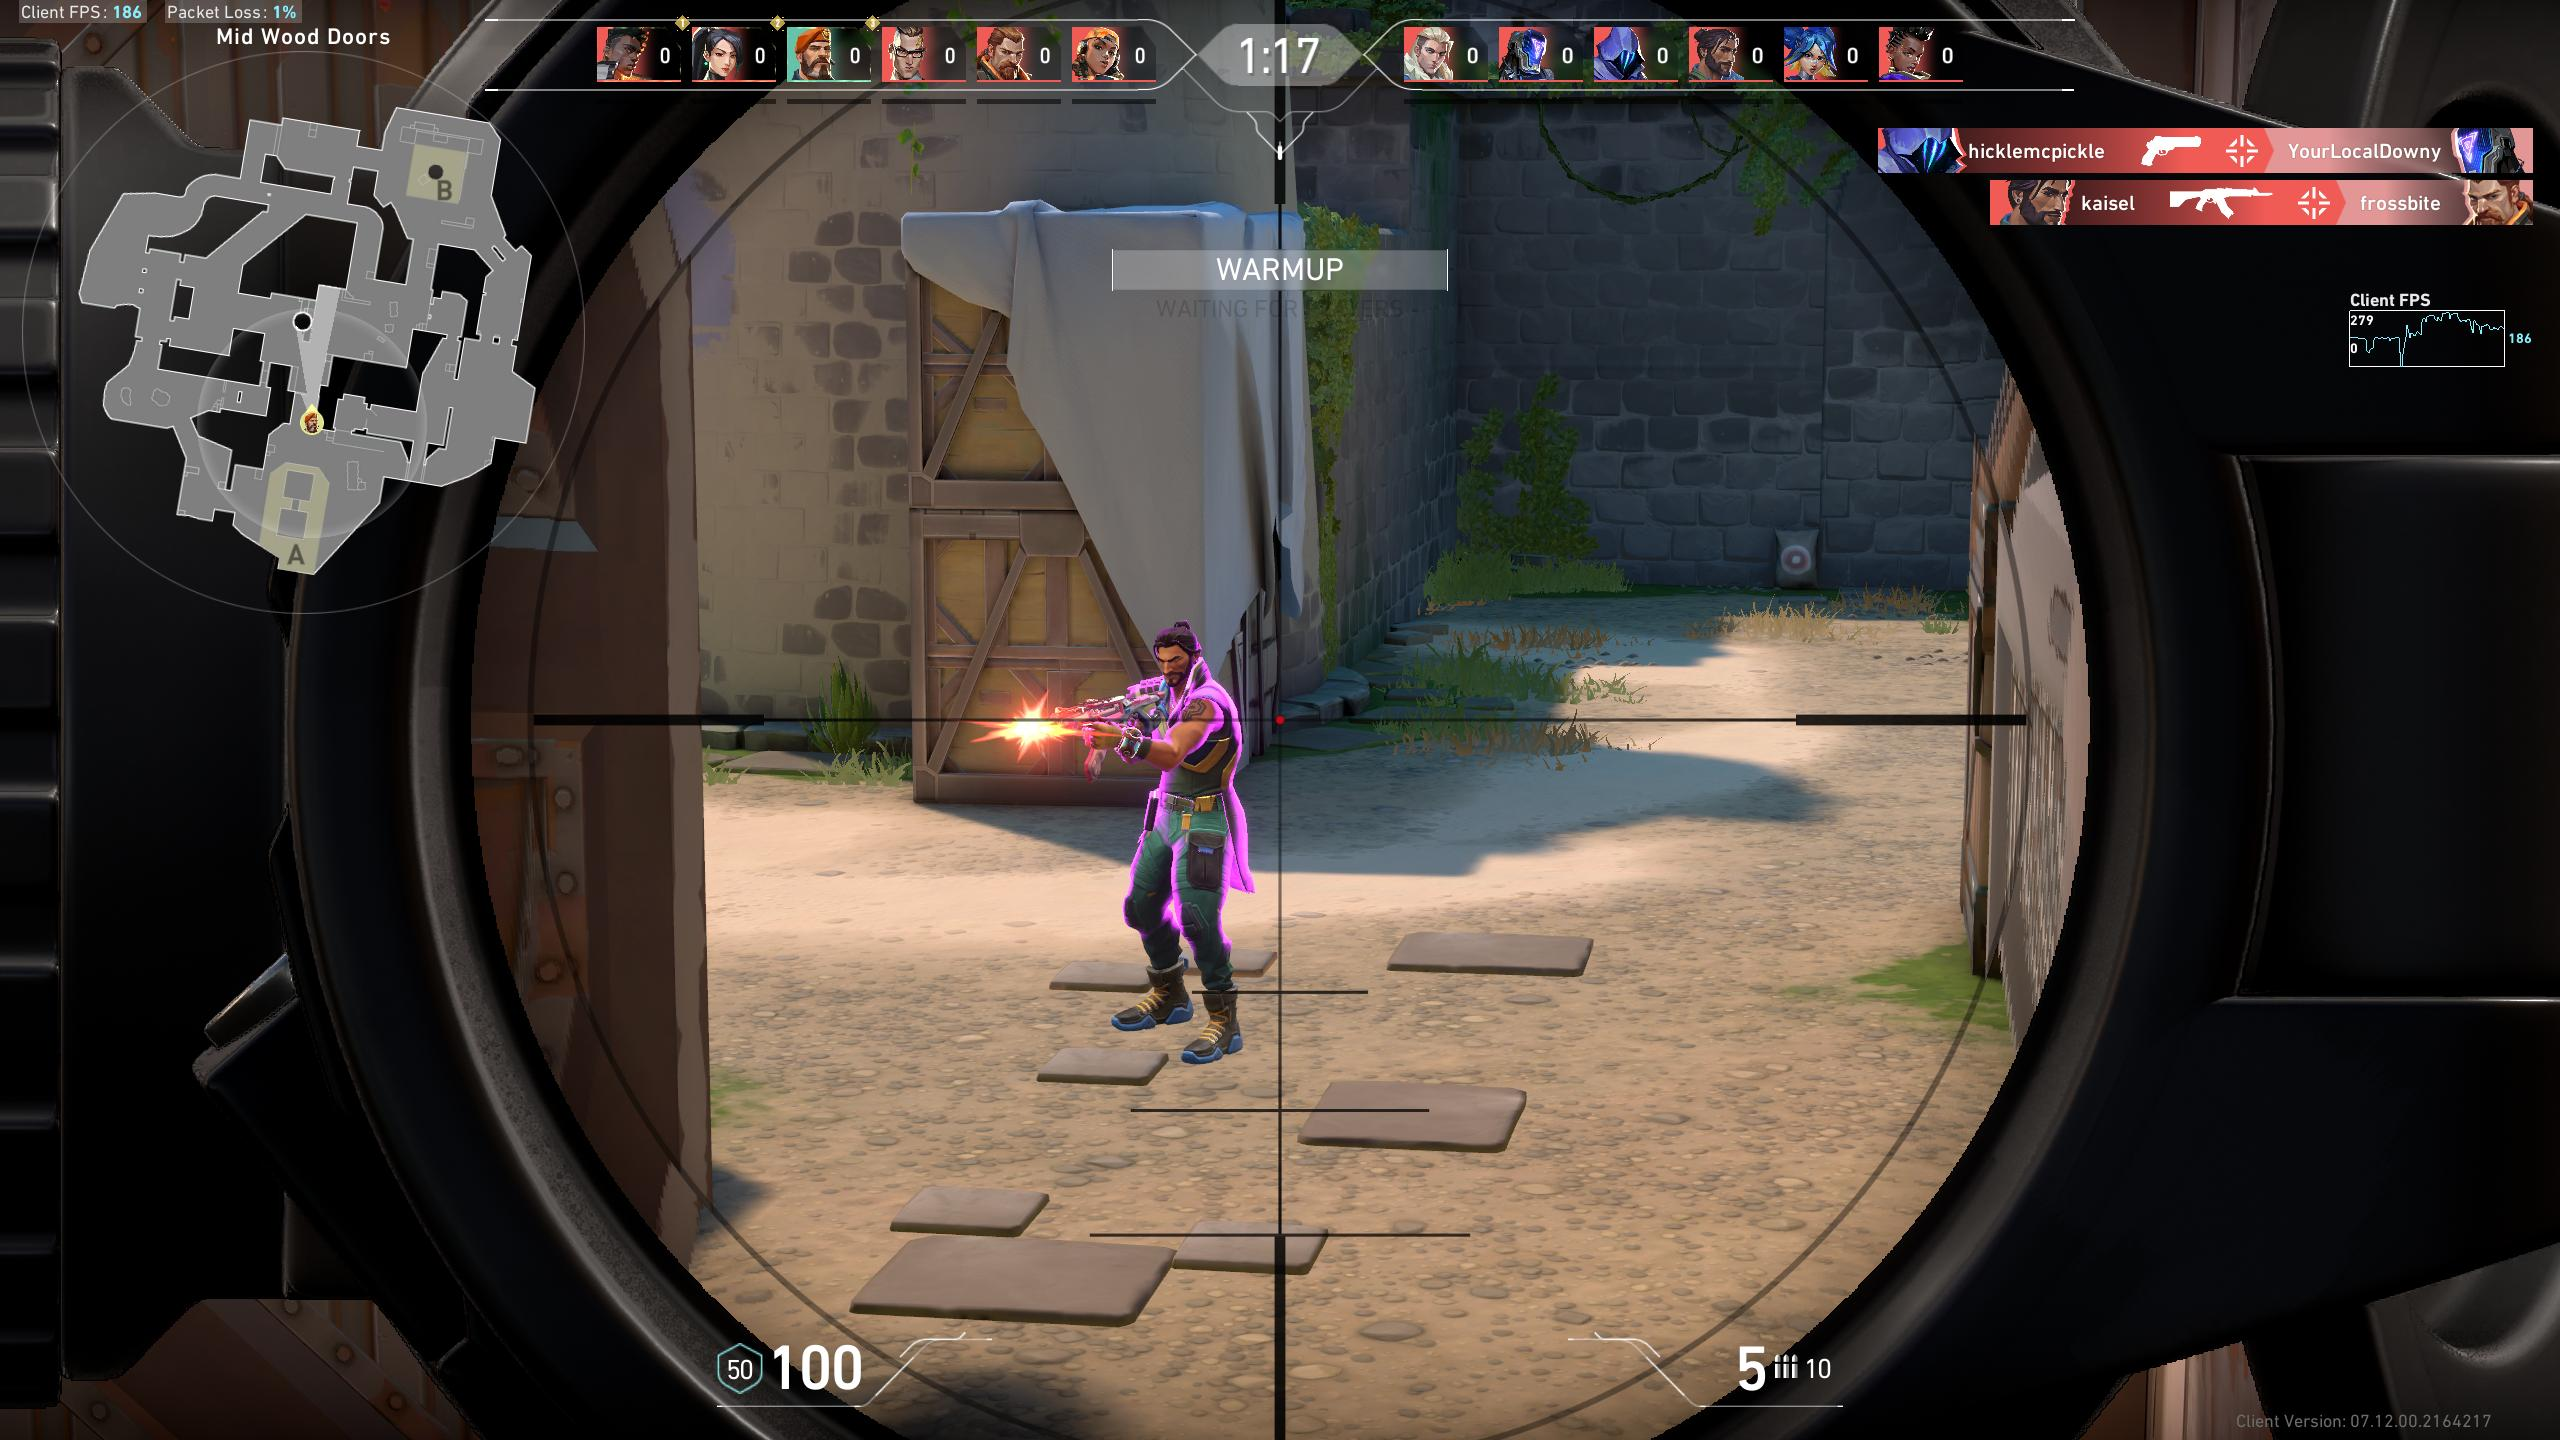enemyBody: (1141, 698, 1241, 846)
enemyHead: (1153, 629, 1196, 680)
